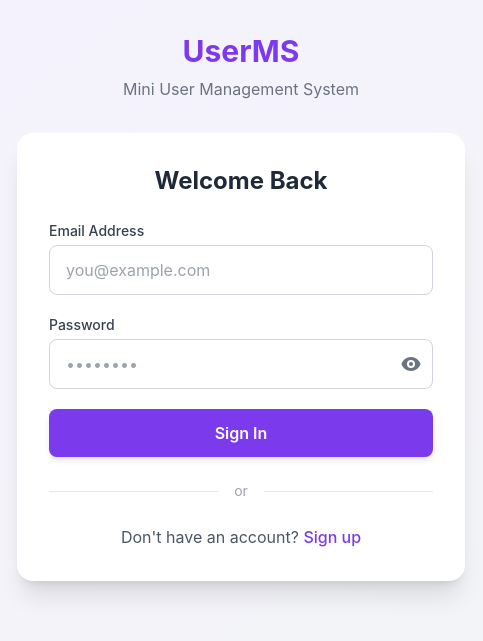
Test: Login Component › clears validation error when user starts typing
Step 1. Click the button "Sign In" → (241, 433), box [49,409,433,457]
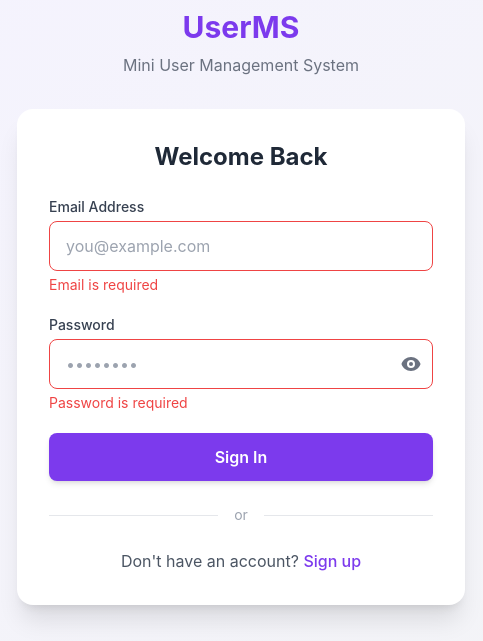
Now the text "Email is required" is shown, box [49,276,158,293]
Step 2. Type "t" into the field labelled "Email Address" → (241, 246), box [49,221,433,271]
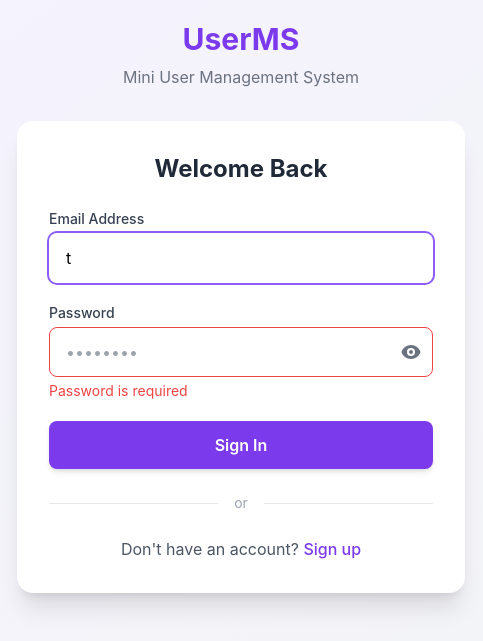
Now the text "Email is required" is gone
